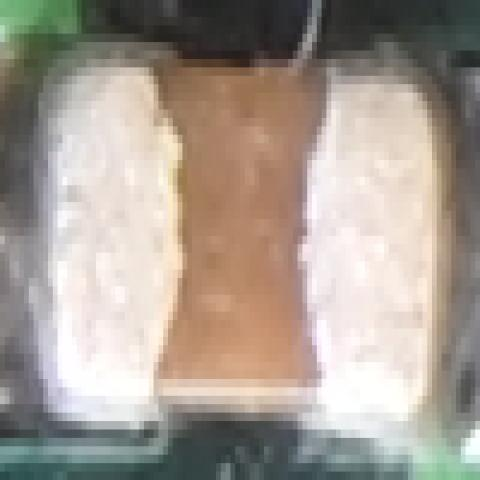Capacitor: (32, 57, 439, 439)
